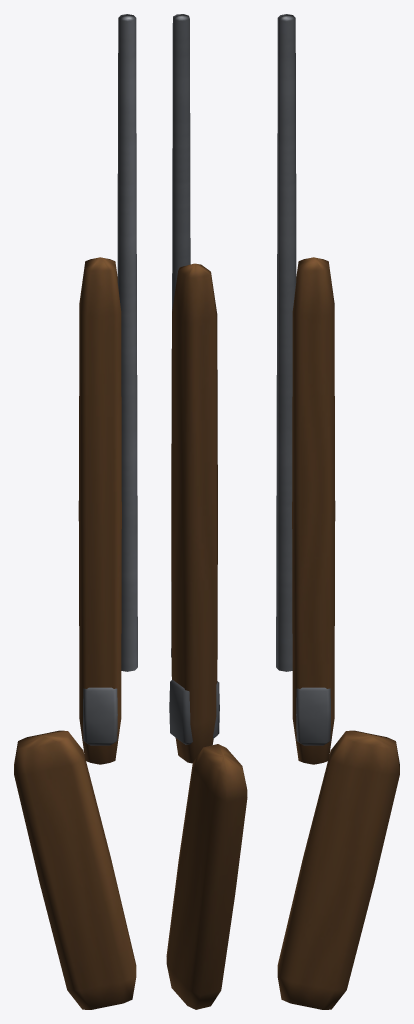
The model's file is arquebuse.glb.
The picture shows the model from 3 angles, left to right: view 1: azimuth 90°, elevation 25°; view 2: azimuth 210°, elevation 25°; view 3: azimuth 270°, elevation 25°; orthographic projection.
Visible parts, largest first — view 1: arquebuse; view 2: arquebuse; view 3: arquebuse.
Part boxes in pixels (x1=…): arquebuse: x1=14, y1=14, x2=137, y2=1009; arquebuse: x1=166, y1=14, x2=247, y2=1009; arquebuse: x1=276, y1=14, x2=399, y2=1009.
Size of the model in its own units: 0.0488 by 1.22 by 0.1383.
1 material, 1 textured.
